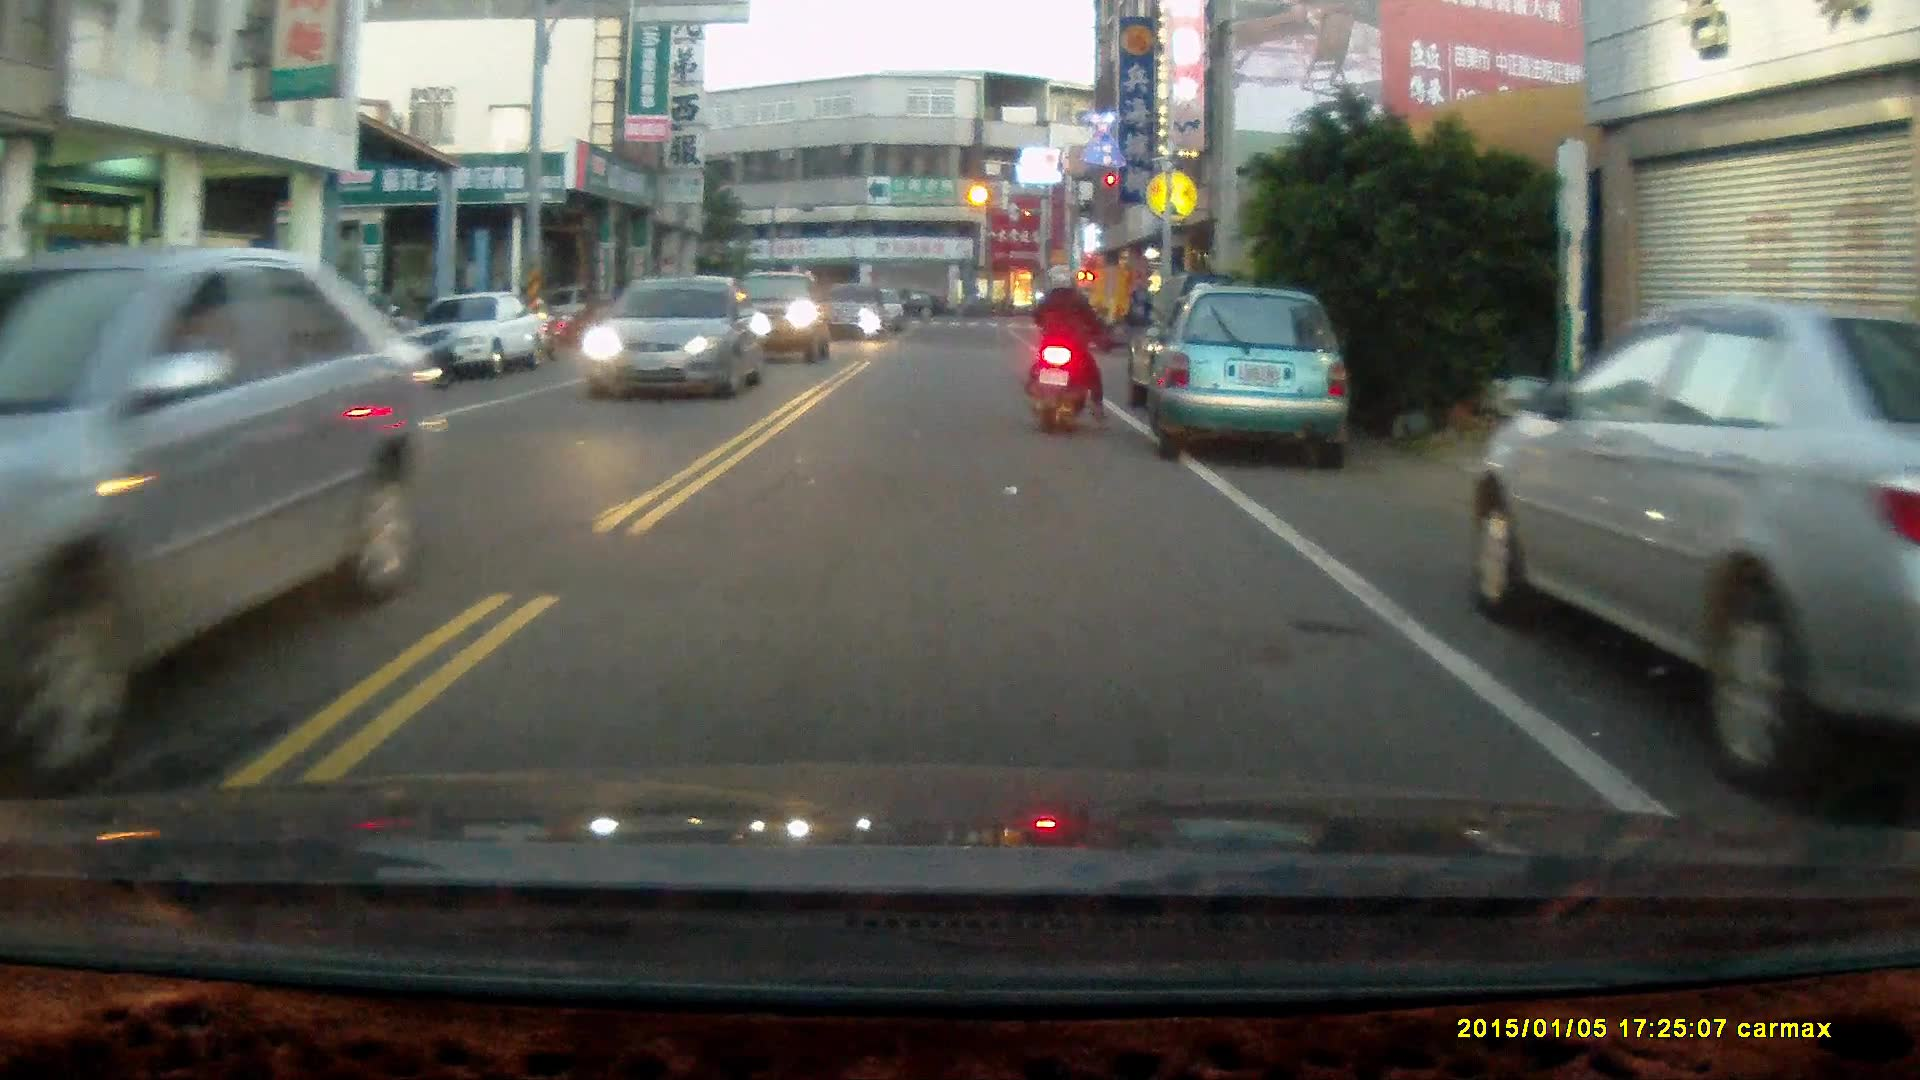rider: (1025, 266, 1109, 435)
vehicle: (1, 247, 440, 764), (1479, 302, 1920, 795), (1153, 281, 1354, 474), (588, 274, 765, 402), (397, 290, 541, 380), (710, 270, 837, 368)
